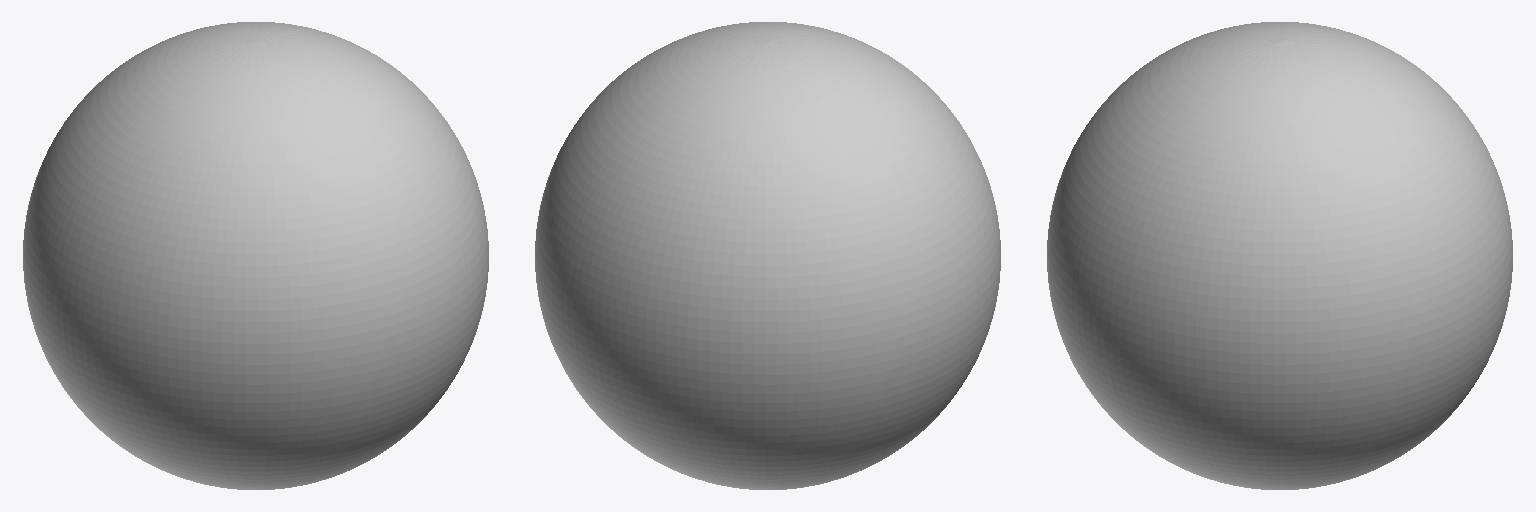
The model's file is planet001.obj.
3 views of the same model, side by side, from view 1: azimuth 30°, elevation 25°; view 2: azimuth 150°, elevation 25°; view 3: azimuth 270°, elevation 25° (orthographic).
Parts seen in each view (by area): view 1: 球体.001; view 2: 球体.001; view 3: 球体.001.
Part boxes in pixels (left/top/right/bottom): 球体.001: left=23, top=22, right=488, bottom=489; 球体.001: left=535, top=22, right=1000, bottom=489; 球体.001: left=1047, top=22, right=1512, bottom=489.
Bounding box in the file's own units: 15.81 × 15.98 × 15.81.